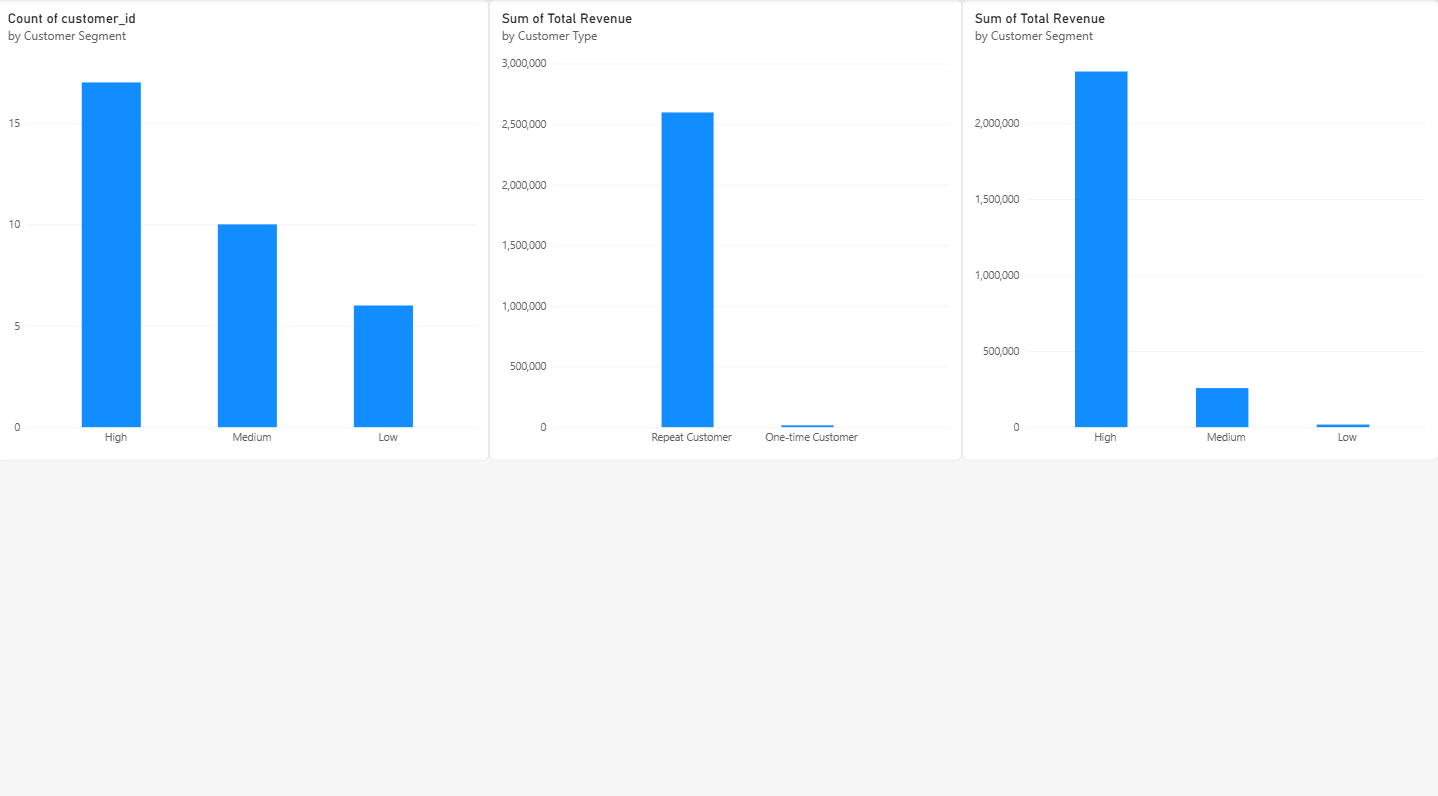

What the dashboard file says about the page in this screenshot:
{"tool":"powerbi","page":{"name":"Page 2","canvas":[1920,1080],"ordinal":1},"visuals":[{"type":"clusteredColumnChart","fields":{"Category":["Customer Summary.Customer Segment"],"Y":["CountNonNull(Customer Summary.customer_id)"]},"box":[0,0,657.2,614.5],"z":0},{"type":"clusteredColumnChart","fields":{"Category":["Customer Summary.Customer Type"],"Y":["Sum(Customer Summary.Total Revenue)"]},"box":[657.2,0,629.2,614.5],"z":1000},{"type":"clusteredColumnChart","fields":{"Category":["Customer Summary.Customer Segment"],"Y":["Sum(Customer Summary.Total Revenue)"]},"box":[1286.4,0,633.6,614.5],"z":2000}]}

Visuals, with their boxes in screenshot pixels (x1, y1, x2, y2), scaled from the page's 1920x1080 canvas onto the 1438x796 screenshot:
clusteredColumnChart - Customer Summary.Customer Segment x CountNonNull(Customer Summary.customer_id): <region>0, 0, 492, 453</region>
clusteredColumnChart - Customer Summary.Customer Type x Sum(Customer Summary.Total Revenue): <region>492, 0, 963, 453</region>
clusteredColumnChart - Customer Summary.Customer Segment x Sum(Customer Summary.Total Revenue): <region>963, 0, 1437, 453</region>
